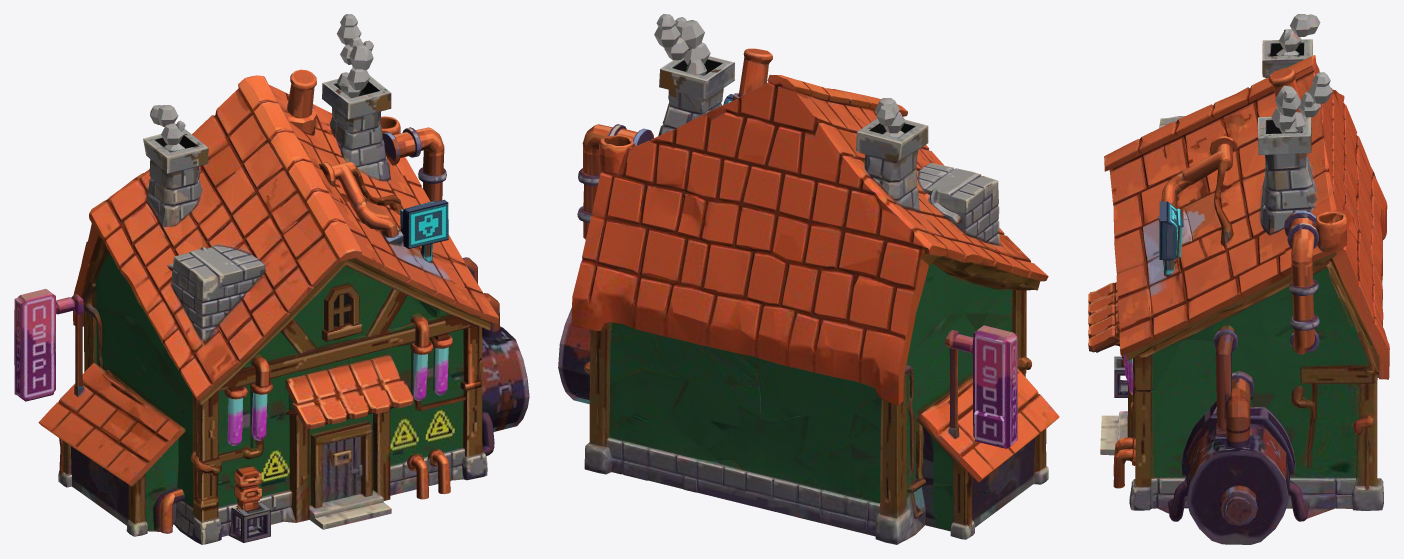
The model's file is ministry.glb.
3 views of the same model, side by side, from view 1: azimuth 30°, elevation 25°; view 2: azimuth 150°, elevation 25°; view 3: azimuth 270°, elevation 25° (orthographic). The views are drawn at different scales.
Bounding box in the file's own units: 16 × 13.6 × 8.95.
1 material, 1 textured.
